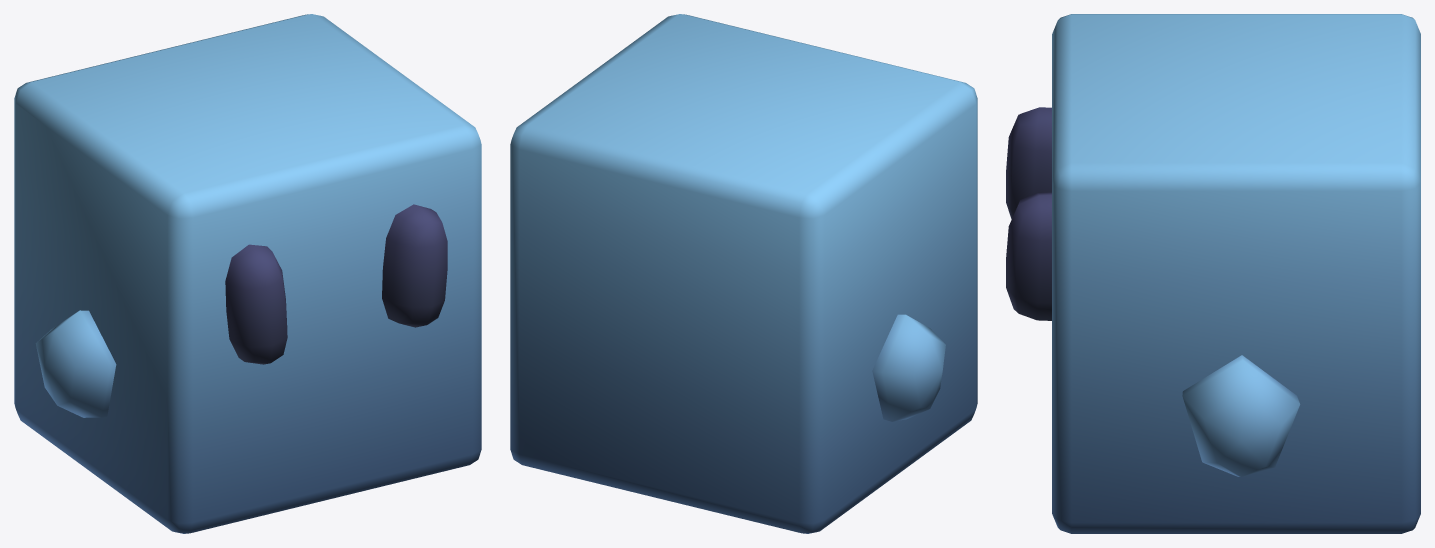
Rendered from Player_IceCube.fbx.
The picture shows the model from 3 angles, left to right: view 1: azimuth 30°, elevation 25°; view 2: azimuth 150°, elevation 25°; view 3: azimuth 270°, elevation 25°; orthographic projection. The views are drawn at different scales.
Visible parts, largest first — view 1: Ice_Cube; view 2: Ice_Cube; view 3: Ice_Cube.
Boxes of the visible parts, <box> form: Ice_Cube: <box>14,14,481,533</box>; Ice_Cube: <box>510,14,977,533</box>; Ice_Cube: <box>1006,14,1420,533</box>.
Size of the model in its own units: 648 by 522 by 529.
